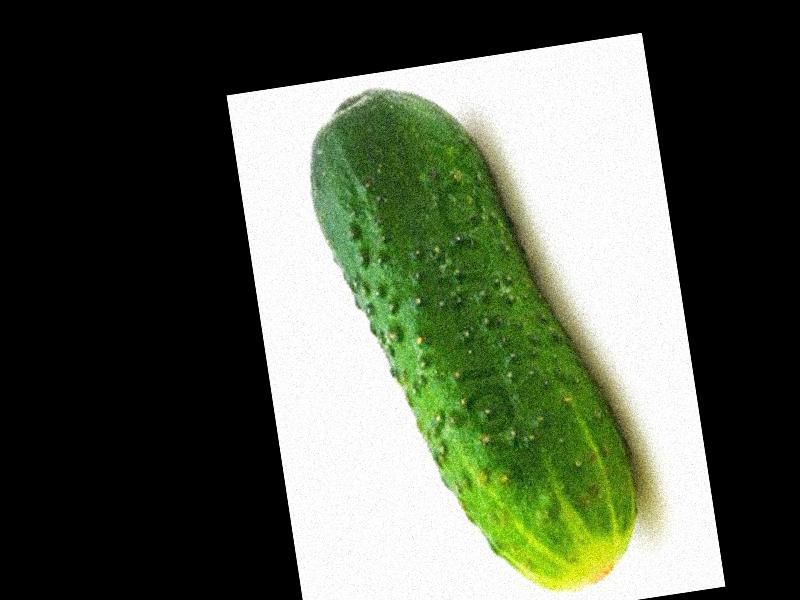Cucumber: (297, 62, 649, 600)
